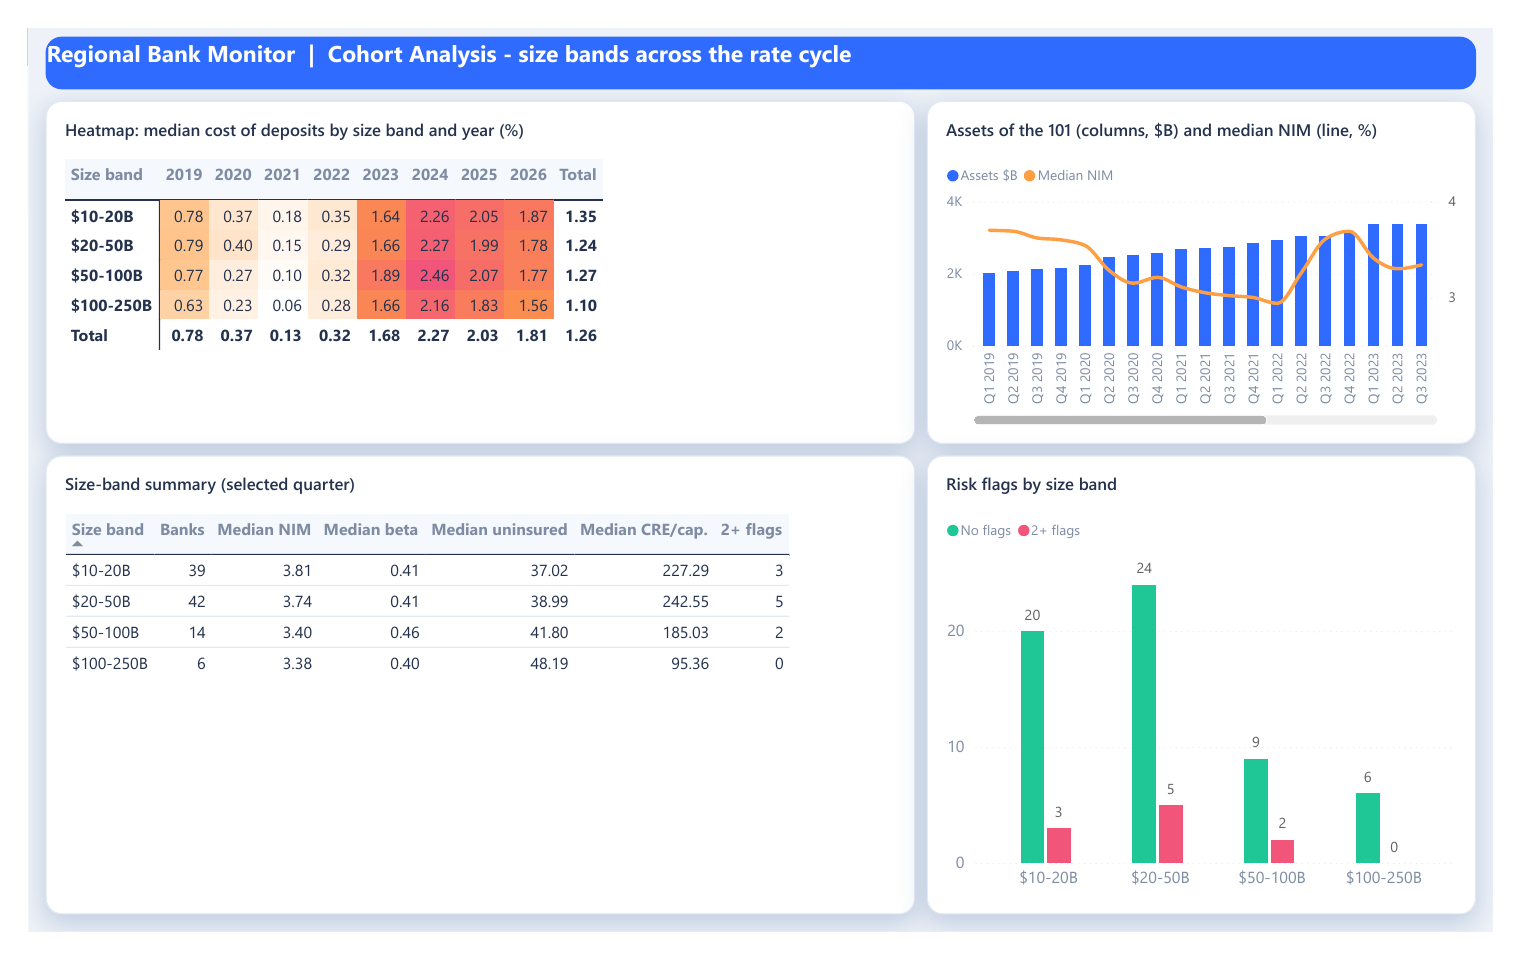

This screenshot's page, from the dashboard's own definition file:
{"tool":"powerbi","page":{"name":"Cohort Analysis","canvas":[1280,790],"ordinal":6},"visuals":[{"type":"textbox","box":[15,8,1250,46],"z":1000},{"type":"pivotTable","title":"Heatmap: median cost of deposits by size band and year (%)","fields":{"Columns":["Quarters.year"],"Rows":["Banks.size_band"],"Values":["_Measures.Median Cost of Deposits % by Quarter"]},"box":[15,64,760,300],"z":2000},{"type":"lineClusteredColumnComboChart","title":"Assets of the 101 (columns, $B) and median NIM (line, %)","fields":{"Category":["Quarters.quarter"],"Y":["_Measures.Assets by Quarter $B"],"Y2":["_Measures.Median NIM % by Quarter"]},"box":[785,64,480,300],"z":3000},{"type":"tableEx","title":"Size-band summary (selected quarter)","fields":{"Values":["Banks.size_band","_Measures.Banks","_Measures.Median NIM %","_Measures.Median Deposit Beta (Hikes)","_Measures.Median Uninsured Deposits %","_Measures.Median CRE / Capital %","_Measures.Banks With 2+ Flags"]},"box":[15,374,760,401],"z":4000},{"type":"clusteredColumnChart","title":"Risk flags by size band","fields":{"Category":["Banks.size_band"],"Y":["_Measures.Banks With No Flags","_Measures.Banks With 2+ Flags"]},"box":[785,374,480,401],"z":5000}]}

Visuals, with their boxes in screenshot pixels (x1, y1, x2, y2), scaled from the page's 1280x790 canvas onto the 1522x960 screenshot:
textbox: locate(18, 10, 1504, 66)
"Heatmap: median cost of deposits by size band and year (%)" pivotTable: locate(18, 78, 922, 442)
"Assets of the 101 (columns, $B) and median NIM (line, %)" lineClusteredColumnComboChart: locate(933, 78, 1504, 442)
"Size-band summary (selected quarter)" tableEx: locate(18, 454, 922, 942)
"Risk flags by size band" clusteredColumnChart: locate(933, 454, 1504, 942)
